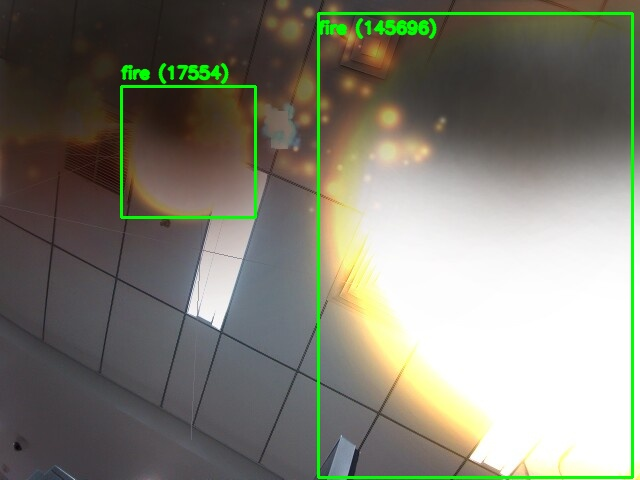fire: (318, 13, 632, 477), (121, 86, 255, 217)
